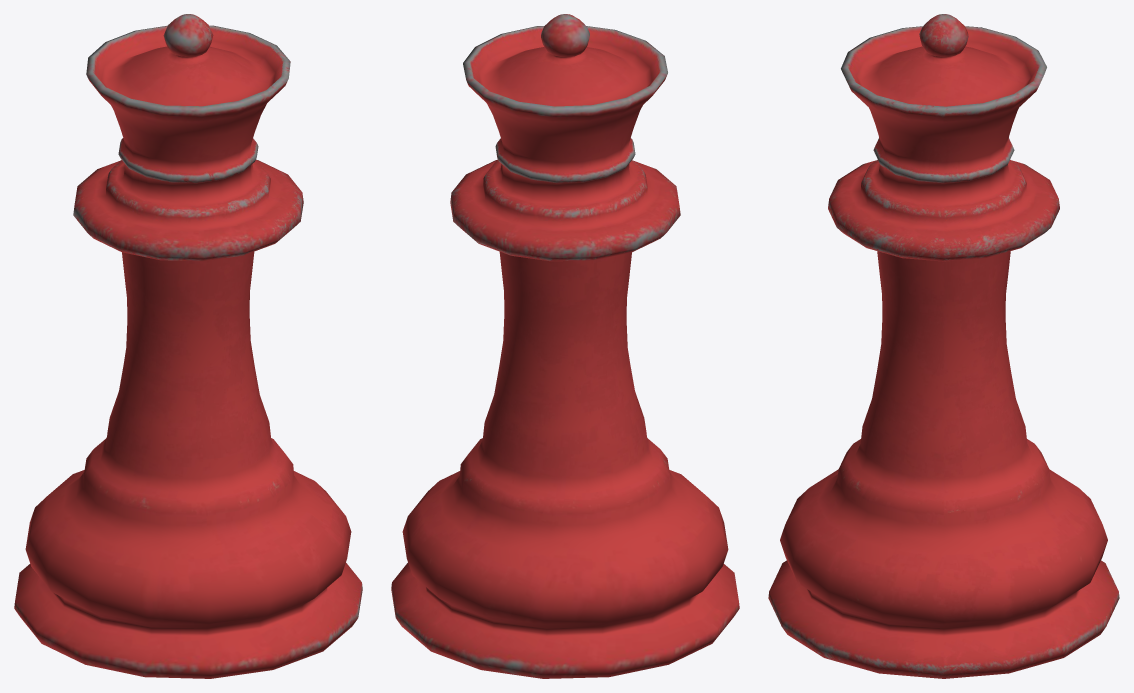
Rendered from queen.glb.
3 renders of one model, left to right at view 1: azimuth 30°, elevation 25°; view 2: azimuth 150°, elevation 25°; view 3: azimuth 270°, elevation 25°, orthographic.
Parts seen in each view (by area): view 1: queen.b.001; view 2: queen.b.001; view 3: queen.b.001.
Boxes of the visible parts, <box> form: queen.b.001: <box>14,14,362,678</box>; queen.b.001: <box>391,14,739,678</box>; queen.b.001: <box>768,14,1119,678</box>.
Bounding box in the file's own units: 1.46 × 2.78 × 1.46.
1 material, 1 textured.
